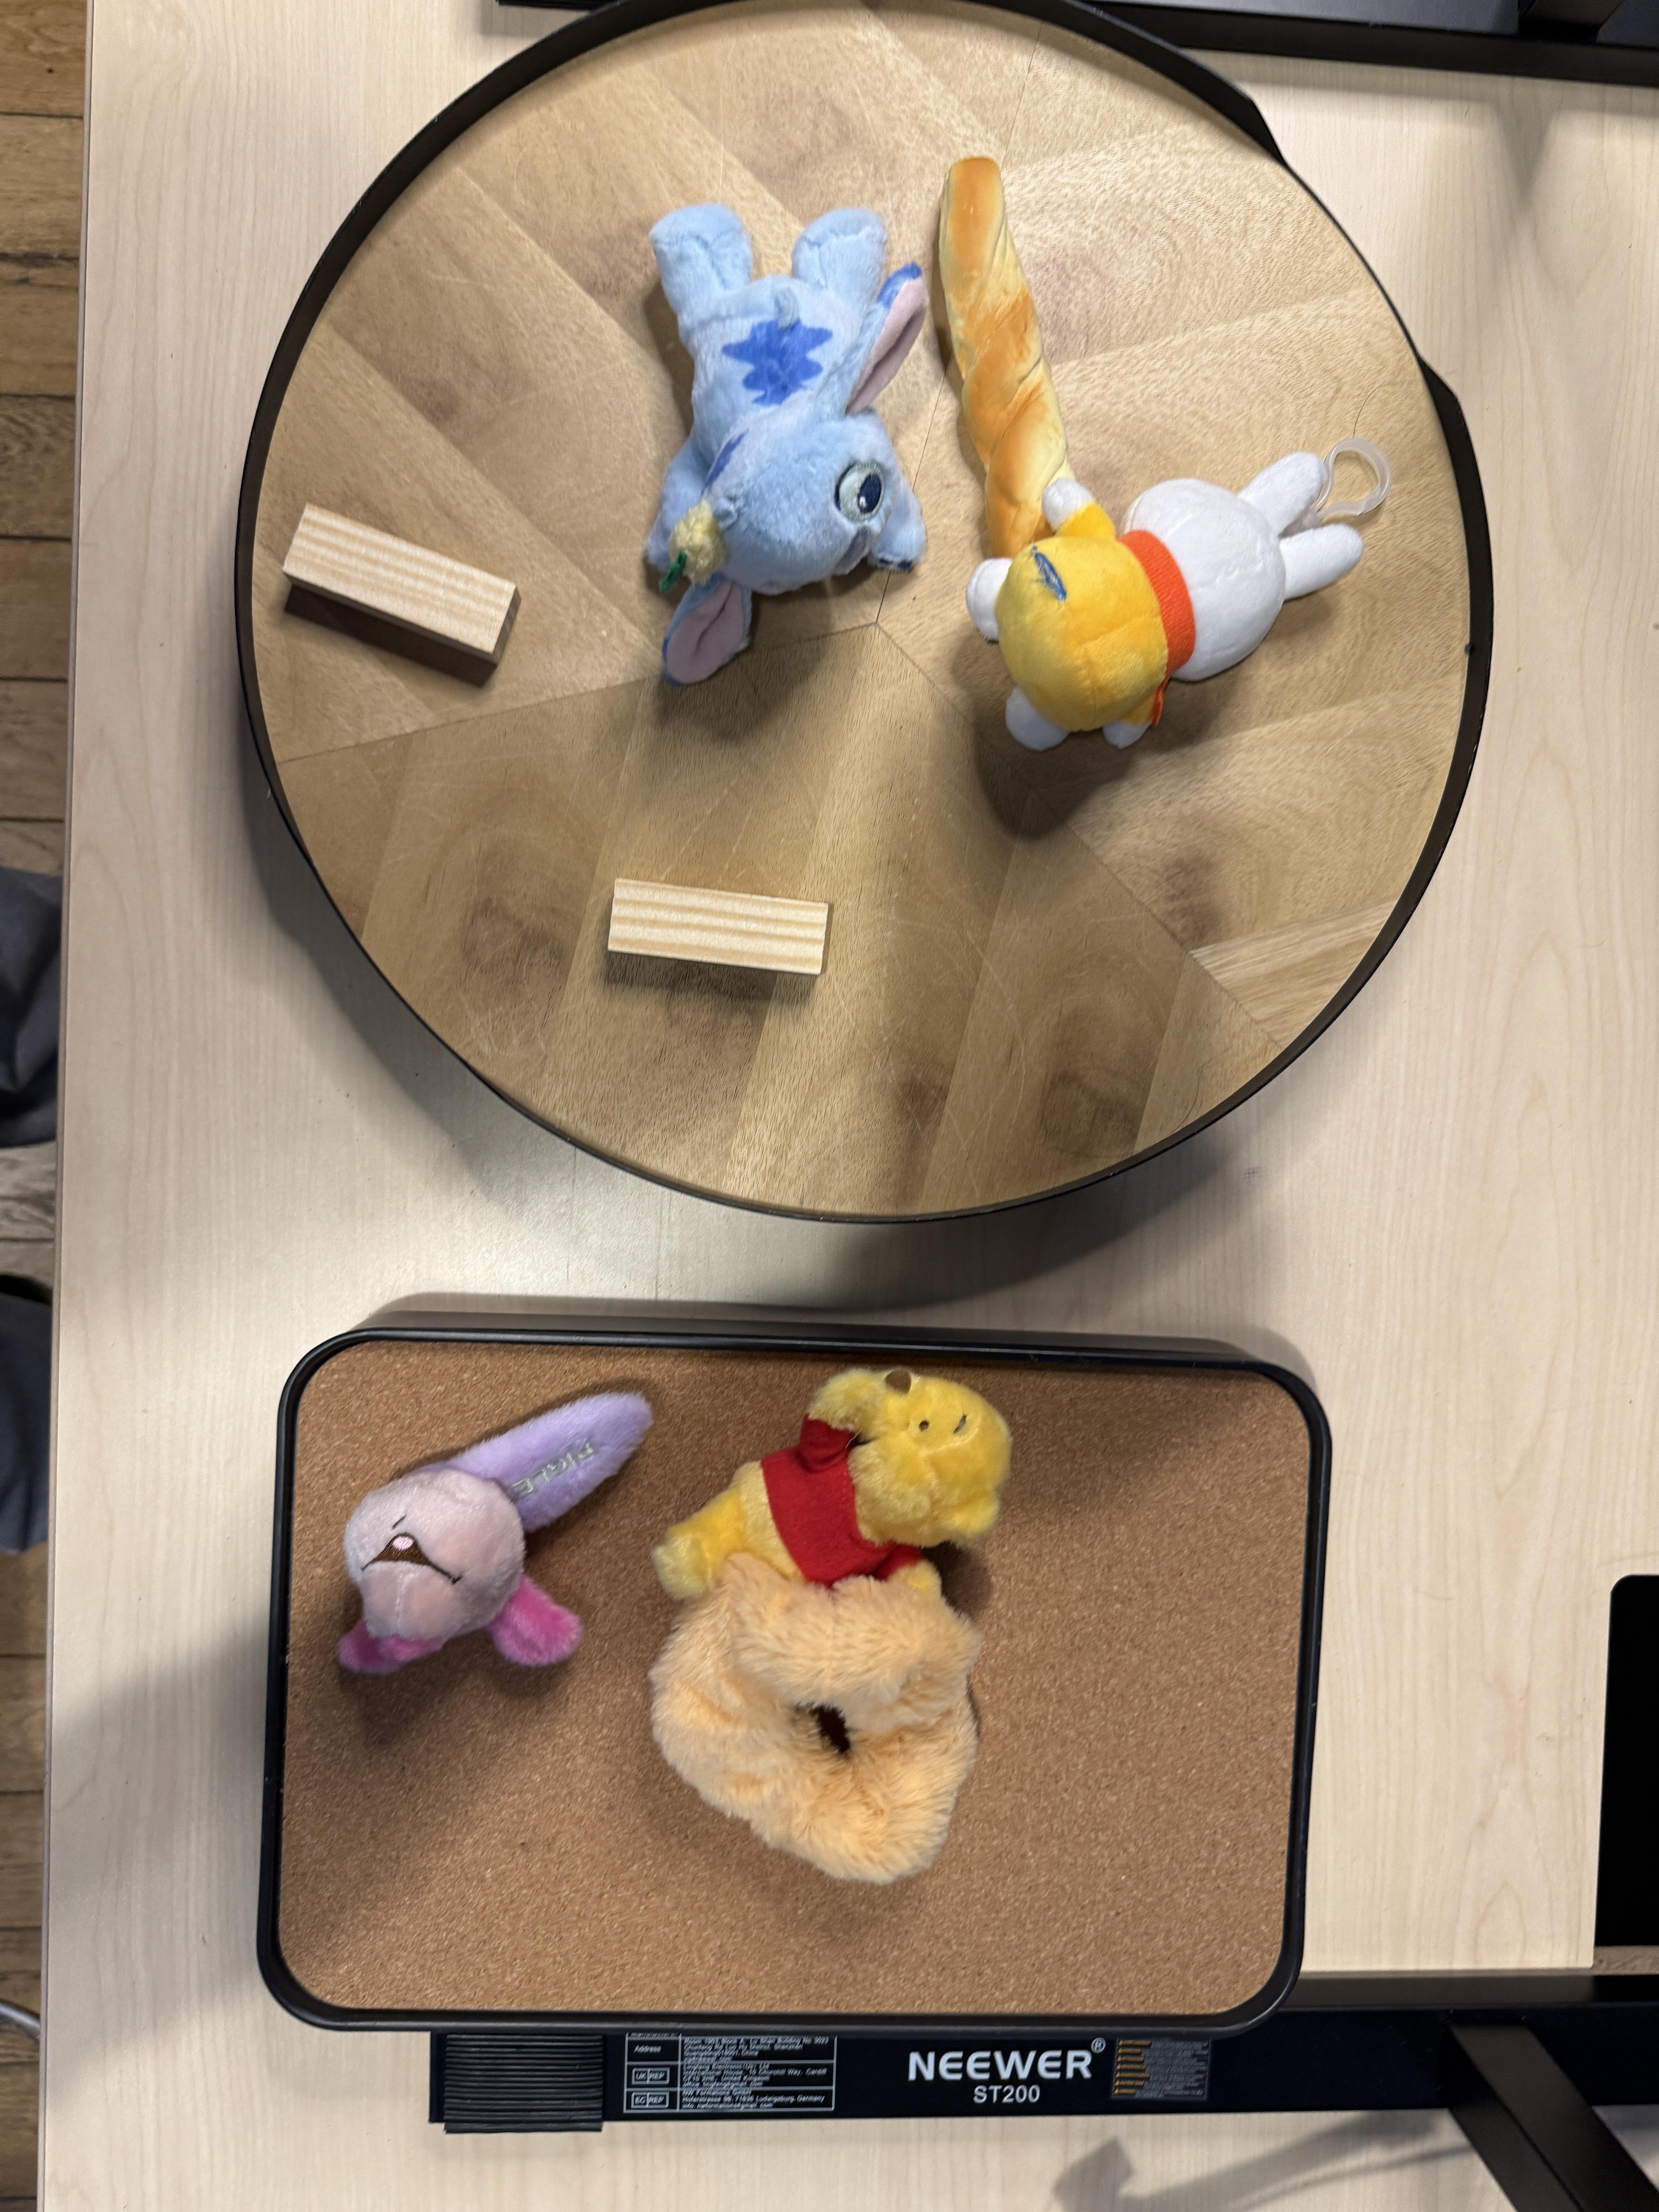block: (267, 496, 525, 674), (605, 867, 831, 1000)
bread: (938, 158, 1077, 554)
doll: (655, 1374, 1012, 1886), (643, 212, 931, 665), (976, 449, 1366, 754), (333, 1367, 653, 1696)
